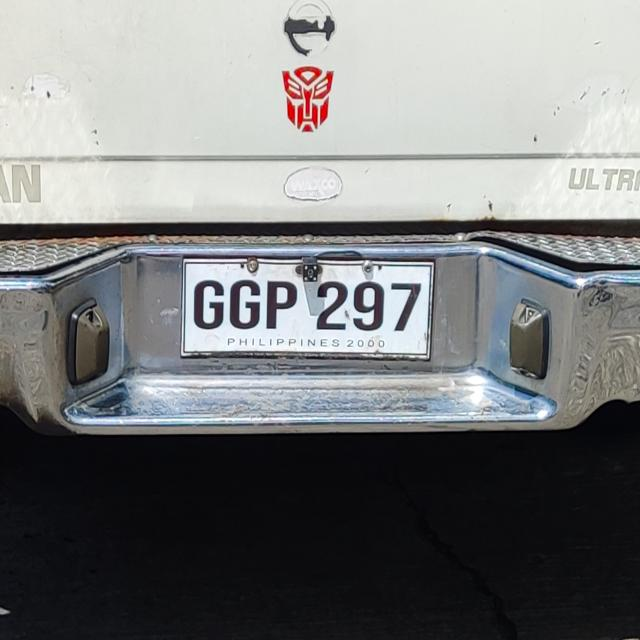plate: (178, 254, 438, 365)
